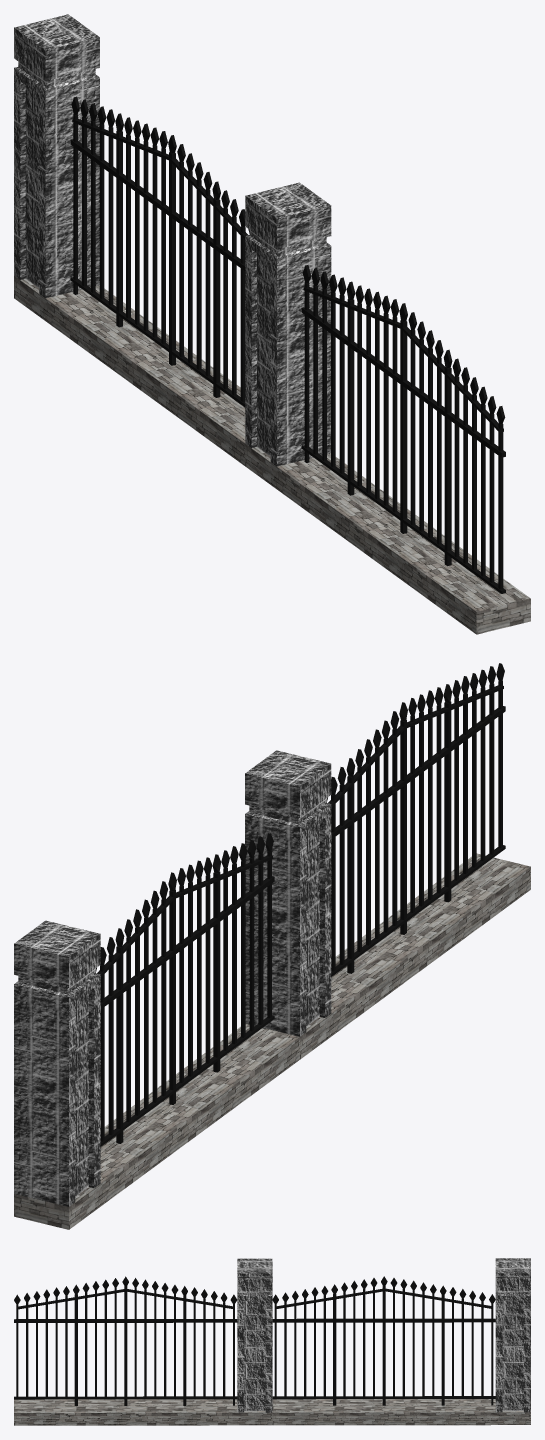
Rendered from Railing.FBX.
3 renders of one model, top to bottom at view 1: azimuth 30°, elevation 25°; view 2: azimuth 150°, elevation 25°; view 3: azimuth 270°, elevation 25°, orthographic. The views are drawn at different scales.
Parts seen in each view (by area): view 1: 3dxy; view 2: 3dxy; view 3: 3dxy.
Part boxes in pixels (x1=…): 3dxy: x1=14, y1=14, x2=530, y2=634; 3dxy: x1=14, y1=663, x2=530, y2=1229; 3dxy: x1=14, y1=1258, x2=530, y2=1425.
Bounding box in the file's own units: 52.05 × 238 × 733.
Materials: 3 (2 with a texture image).
